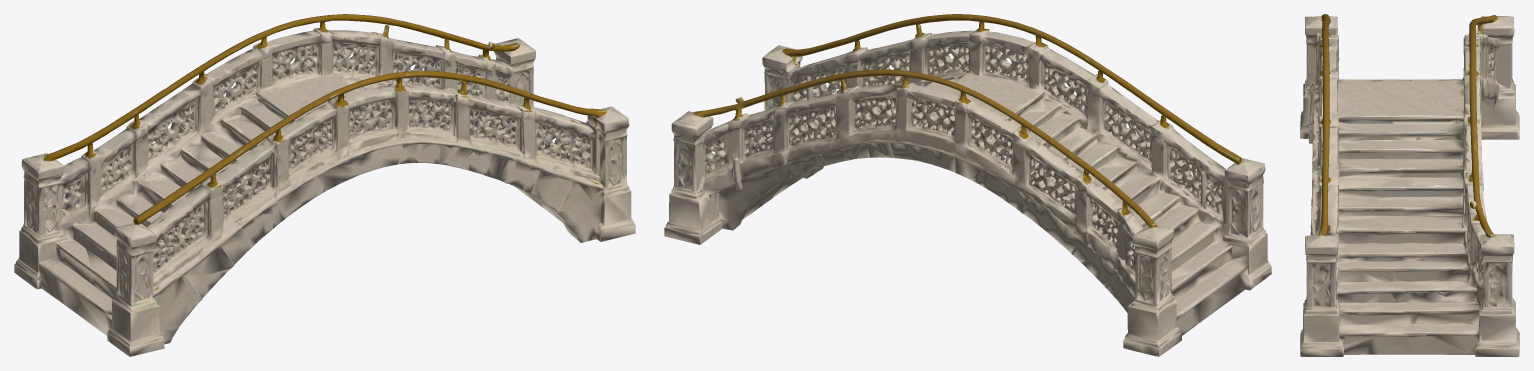
The model's file is bridge.glb.
3 renders of one model, left to right at view 1: azimuth 30°, elevation 25°; view 2: azimuth 150°, elevation 25°; view 3: azimuth 270°, elevation 25°, orthographic. The views are drawn at different scales.
Bounding box in the file's own units: 16 × 6.26 × 6.32.
1 material, 1 textured.
